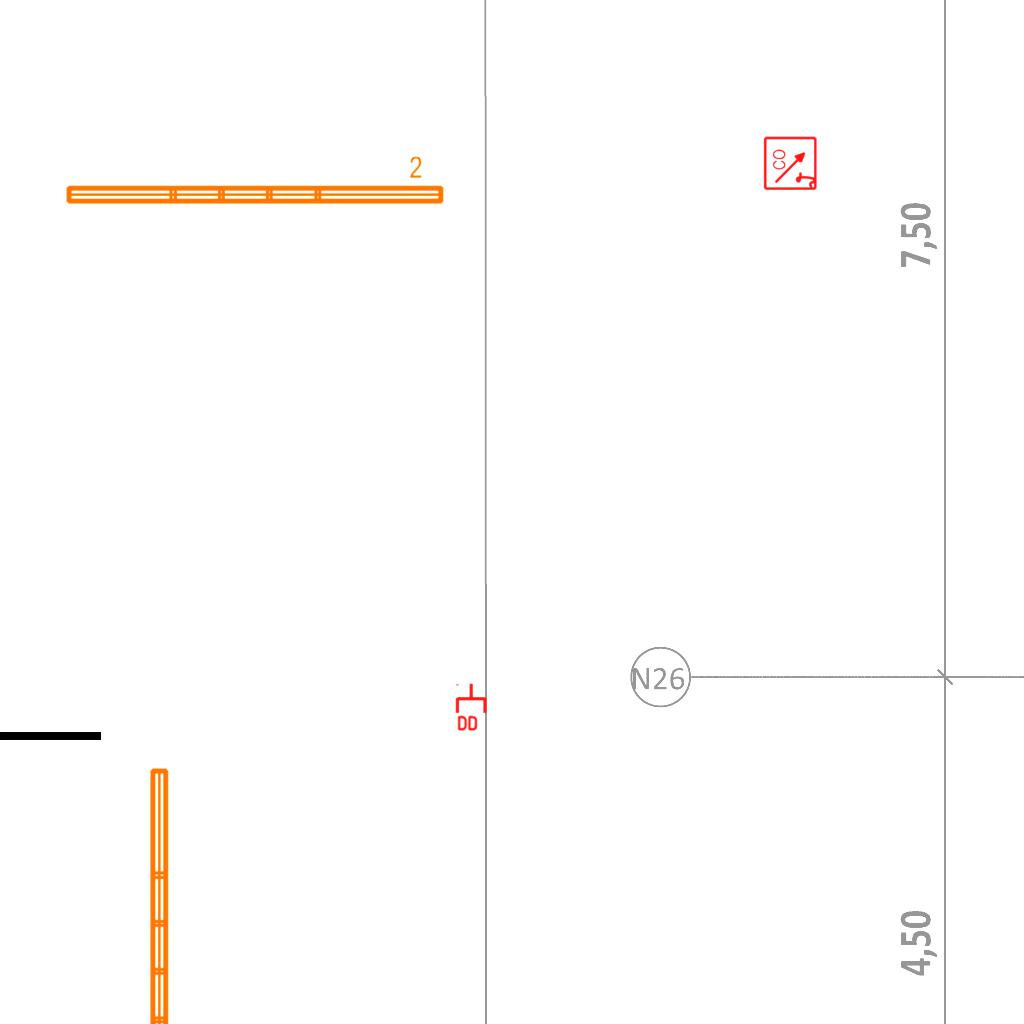Ambulanz_Pendelleuchte_LED: (61, 154, 448, 210), (144, 763, 200, 1024)
Datenanschluss_zweifach: (455, 682, 489, 733)
ROA_Rauchmelder_optisch_mit_Signalgeber_(Sockelsirene): (763, 135, 819, 191)
